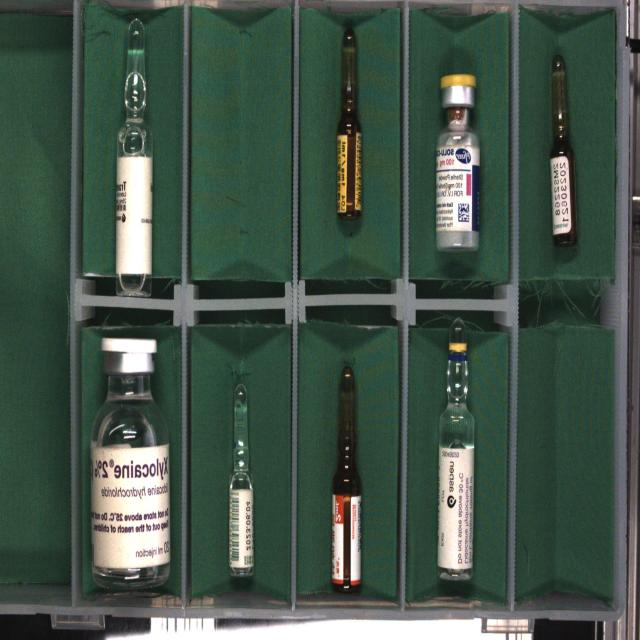Vials: (90, 336, 170, 588), (437, 75, 479, 250)
